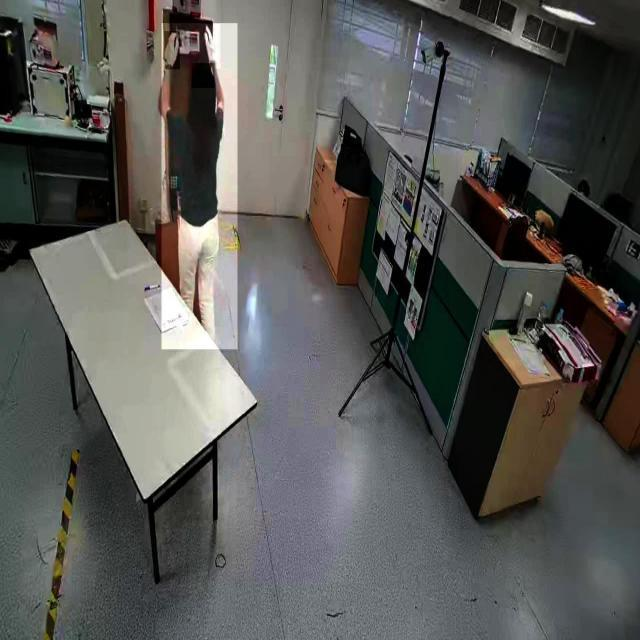gloves: (198, 24, 222, 70), (164, 31, 180, 70)
